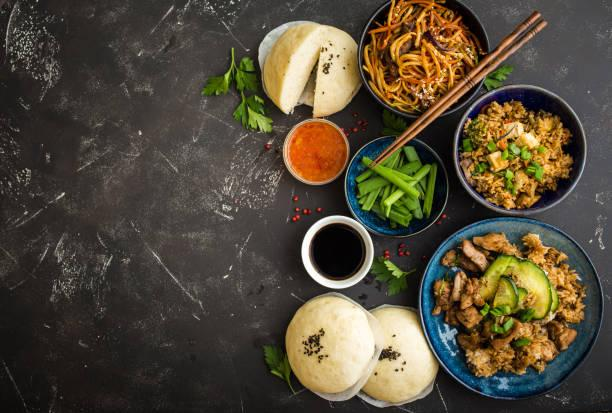Braised Crucian Carp: (417, 215, 599, 401), (454, 84, 584, 215), (358, 0, 491, 122)
